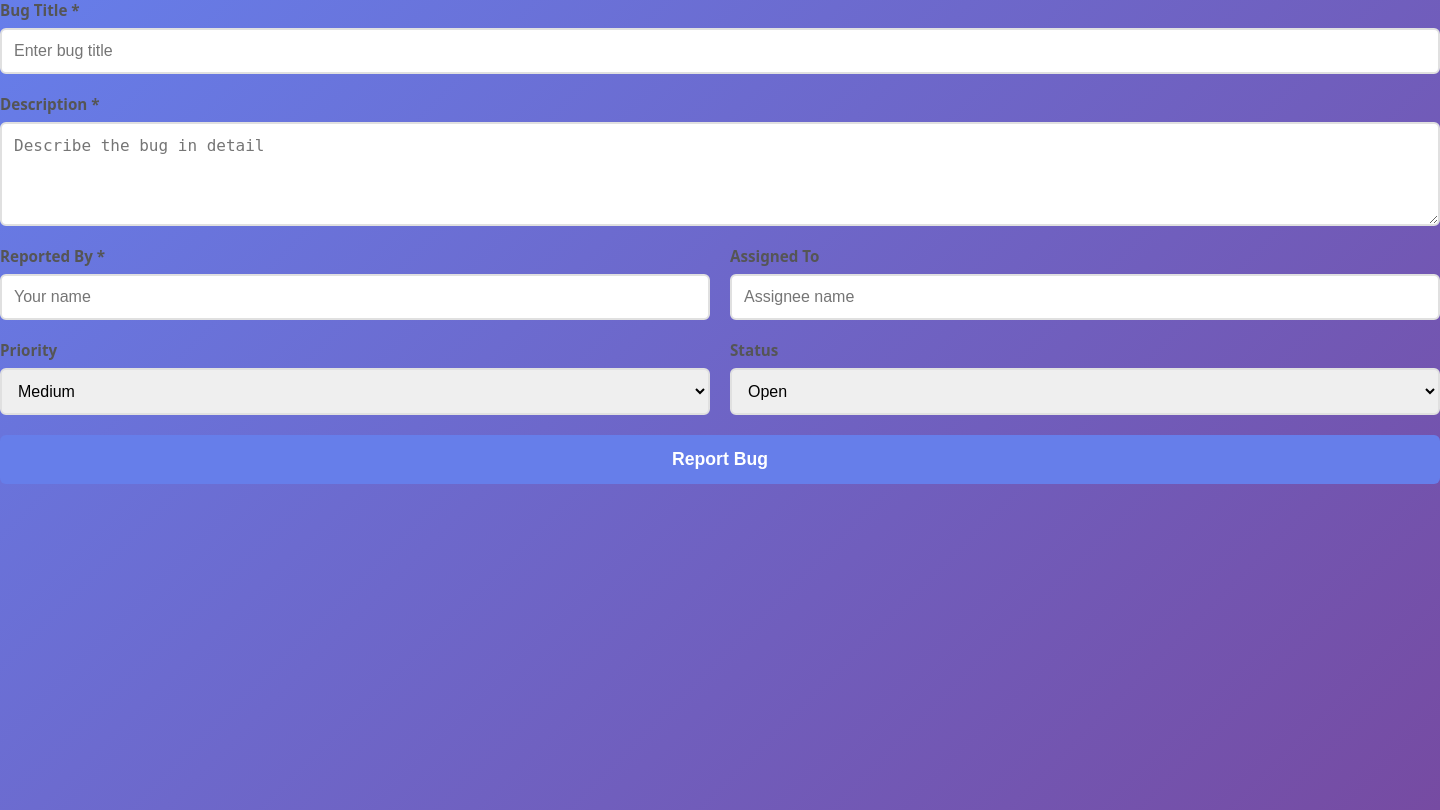
Scenario: BugForm Component › shows validation errors for empty required fields
Click the button "Report Bug": {"x": 720, "y": 460} [0,435,1439,484]
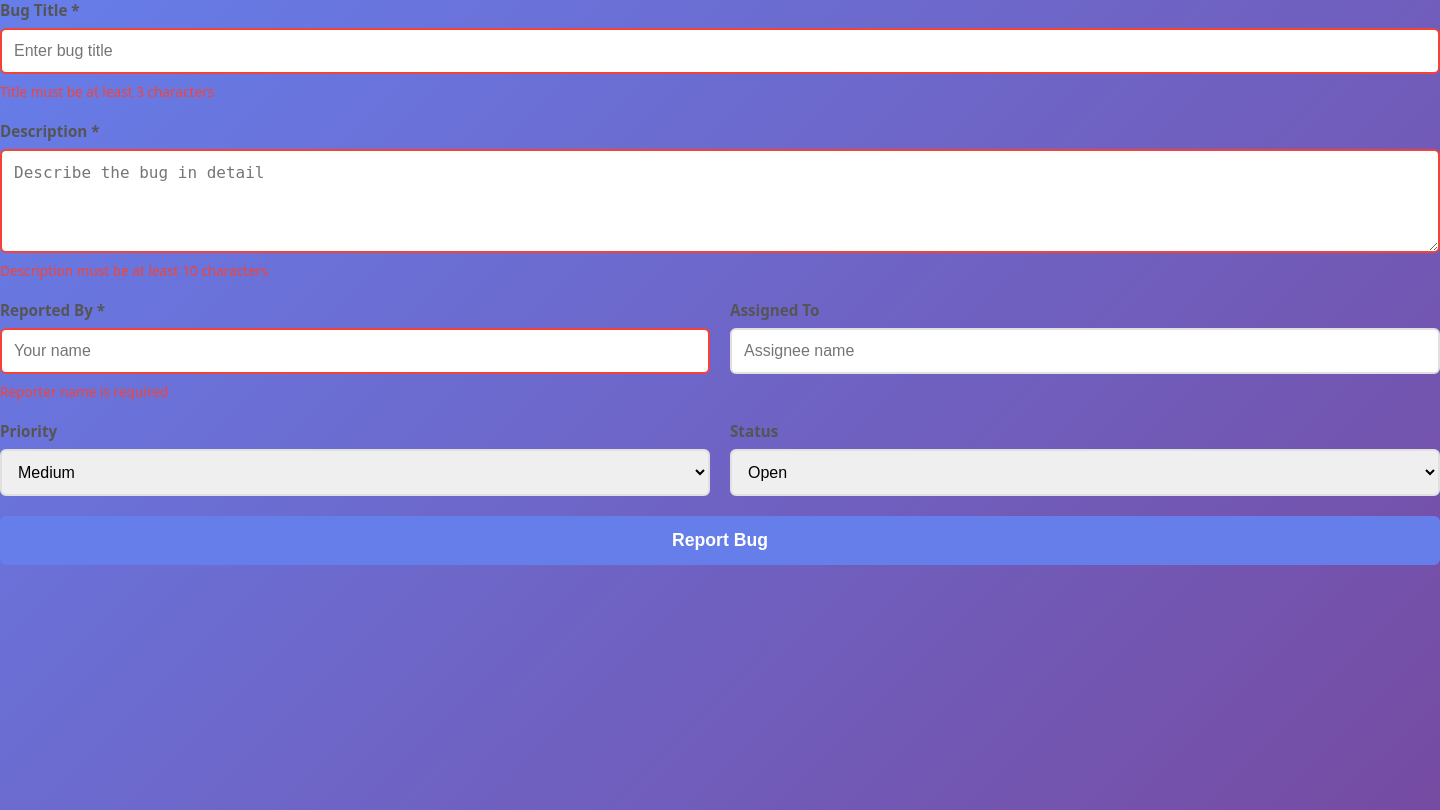
Check: the text "Title must be at least 3 characters" is shown, box [0,82,214,101]
Check: the text "Description must be at least 10 characters" is shown, box [0,261,268,280]
Check: the text "Reporter name is required" is shown, box [0,382,168,401]
